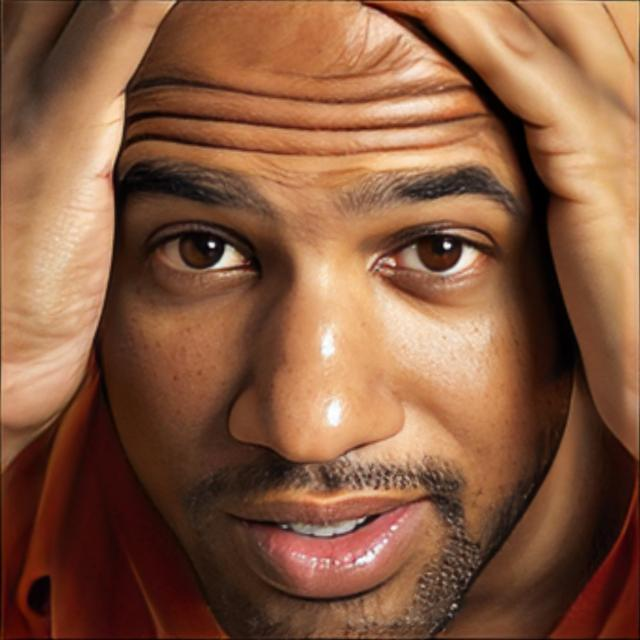surprise: (101, 0, 576, 640)
